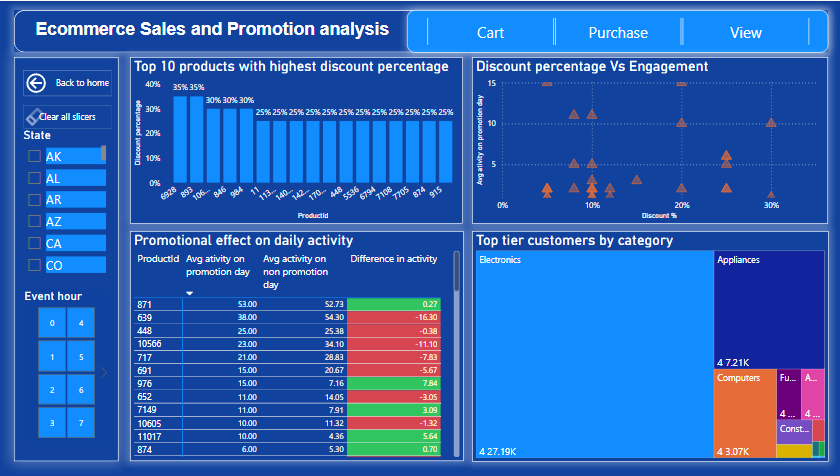

The page's visual inventory and layout, read from the dashboard file:
{"tool":"powerbi","page":{"name":"Promotion analysis","canvas":[1280,720],"ordinal":3},"visuals":[{"type":"shape","box":[22.7,85.2,159.1,613.5],"z":0},{"type":"shape","box":[22.7,13.3,1234.6,64.4],"z":1000},{"type":"textbox","box":[49.3,22.8,1177.5,45.5],"z":2000},{"type":"slicer","fields":{"Values":["Sales_Data_Ecommerce.event_type"]},"box":[619.3,13.3,638.5,65],"z":3000},{"type":"slicer","title":"State","fields":{"Values":["Sales_Data_Ecommerce.State"]},"box":[32.2,193.1,136.3,231],"z":4000},{"type":"slicer","title":"Event hour","fields":{"Values":["Sales_Data_Ecommerce.event_hour"]},"box":[34.1,437.4,136.3,232.9],"z":5000},{"type":"actionButton","box":[36,157.2,134.4,36],"z":6000},{"type":"columnChart","title":"Top 10 products with highest discount percentage","fields":{"Category":["Table 1 (Promotion Dataset).ProductId"],"Y":["Max(Table 1 (Promotion Dataset).Discount)"]},"box":[199.3,85.4,505.1,252.5],"z":7000},{"type":"scatterChart","title":"Discount percentage Vs Engagement","fields":{"Category":["Table 1 (Promotion Dataset).ProductId"],"X":["Max(Table 1 (Promotion Dataset).Discount)"],"Y":["Sales_Data_Ecommerce.Activiry on promotion day"]},"box":[716.8,85.4,539.7,252.5],"z":8000},{"type":"pivotTable","title":"Promotional effect on daily activity","fields":{"Rows":["Table 1 (Promotion Dataset).ProductId"],"Values":["Sales_Data_Ecommerce.Avg ativity on promotion day","Sales_Data_Ecommerce.Avg activity on non promotion day","select"]},"box":[198.1,349.1,506.3,349.1],"z":9000},{"type":"treemap","title":"Top tier customers by category","fields":{"Group":["Sales_Data_Ecommerce.category"],"Values":["Sales_Data_Ecommerce.Total traffic"],"Details":["Sales_Data_Ecommerce.User_Score"]},"box":[716.8,349.1,541,350.3],"z":10000},{"type":"actionButton","box":[36,104.1,134.4,39.8],"z":11000}]}

Visuals, with their boxes in screenshot pixels (x1, y1, x2, y2), scaled from the page's 1280x720 canvas onto the 840x476 screenshot:
shape: (15,56,119,462)
shape: (15,9,825,51)
textbox: (32,15,805,45)
slicer - Sales_Data_Ecommerce.event_type: (406,9,825,52)
"State" slicer: (21,128,111,280)
"Event hour" slicer: (22,289,112,443)
actionButton: (24,104,112,128)
"Top 10 products with highest discount percentage" columnChart: (131,56,462,223)
"Discount percentage Vs Engagement" scatterChart: (470,56,825,223)
"Promotional effect on daily activity" pivotTable: (130,231,462,462)
"Top tier customers by category" treemap: (470,231,825,462)
actionButton: (24,69,112,95)
